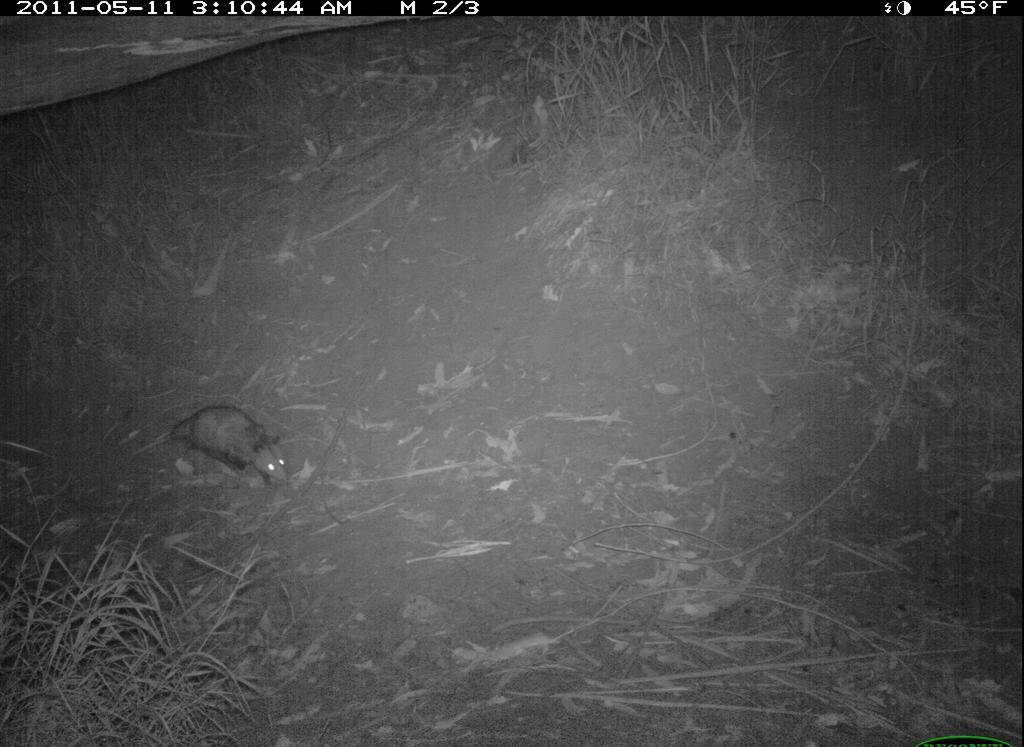opossum: (163, 391, 303, 496)
